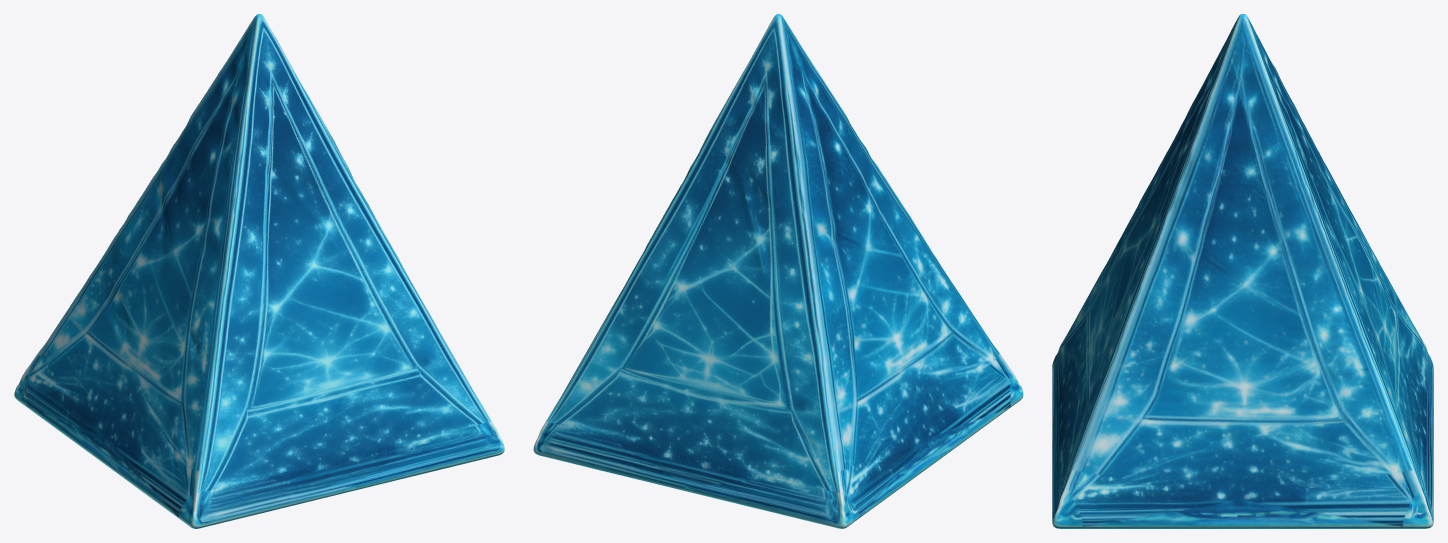
The model's file is Meshy_AI_pyramid_0317213913_texture.glb.
3 views of the same model, side by side, from view 1: azimuth 30°, elevation 25°; view 2: azimuth 150°, elevation 25°; view 3: azimuth 270°, elevation 25° (orthographic). The views are drawn at different scales.
Size of the model in its own units: 1.49 by 1.9 by 1.49.
1 material, 1 textured.
